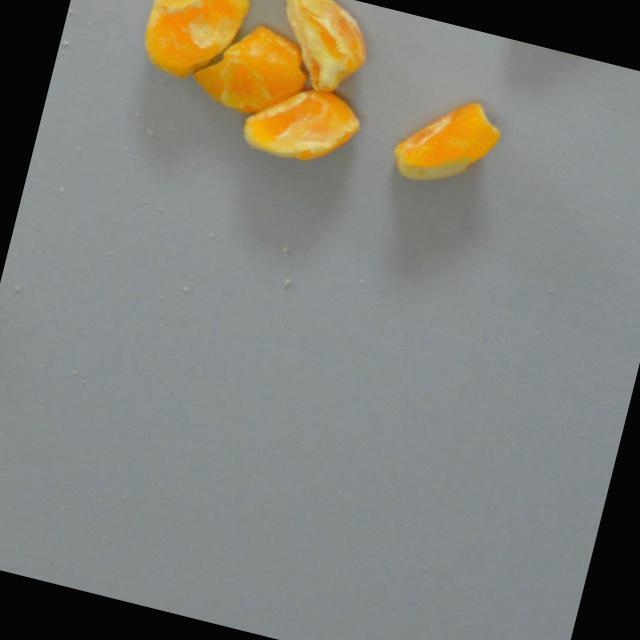dañado: (185, 10, 317, 128), (384, 84, 510, 201), (235, 70, 371, 177), (256, 0, 381, 102), (134, 0, 255, 90)
